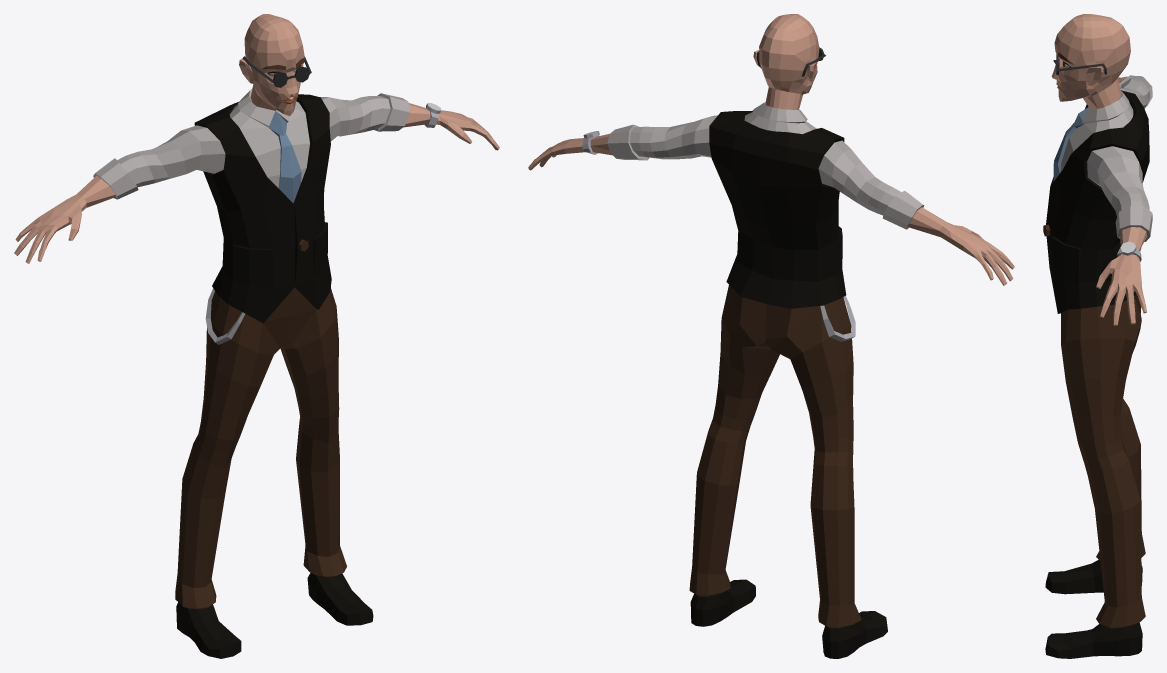
Rendered from City_M_1.fbx.
3 renders of one model, left to right at view 1: azimuth 30°, elevation 25°; view 2: azimuth 150°, elevation 25°; view 3: azimuth 270°, elevation 25°, orthographic.
Parts seen in each view (by area): view 1: City_M_1; view 2: City_M_1; view 3: City_M_1, City_M_1_Watch, City_M_1_Glasses.
Part boxes in pixels (x1,y1,x2,y2): City_M_1: [14, 14, 499, 658]; City_M_1: [528, 14, 1014, 658]; City_M_1: [1045, 14, 1152, 658]; City_M_1_Watch: [1117, 241, 1141, 261]; City_M_1_Glasses: [1053, 54, 1106, 74].
Bounding box in the file's own units: 149 × 180 × 29.71.
1 material, 1 textured.
